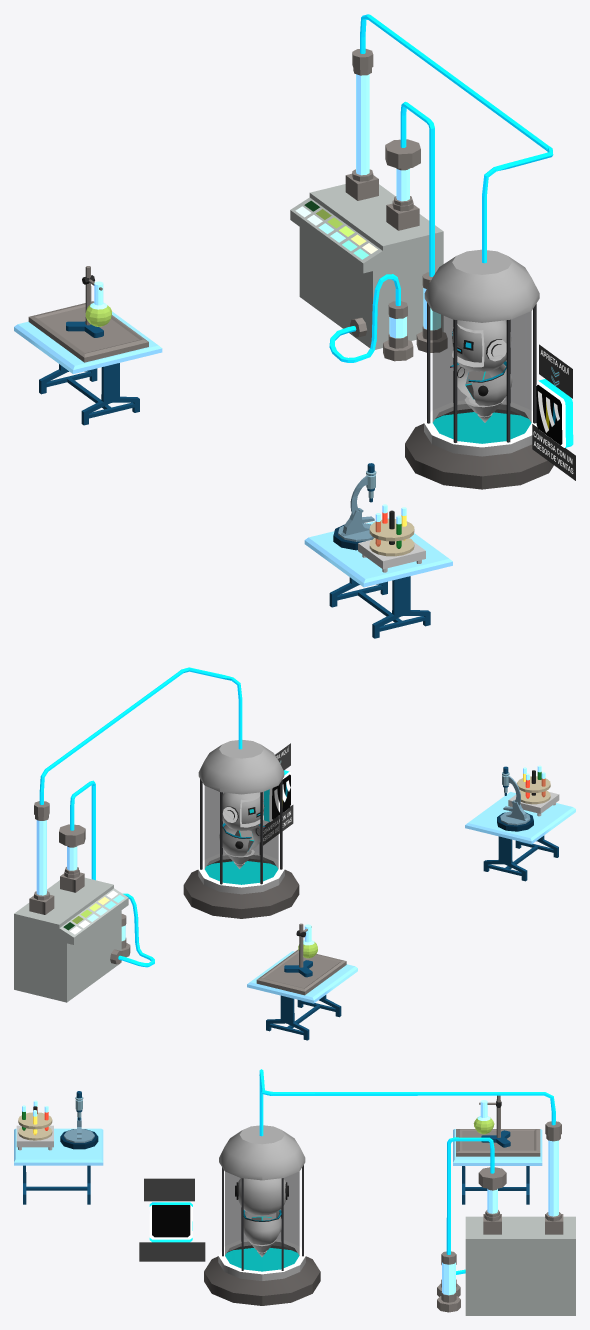
Rendered from P03_XINNUX.glb.
3 renders of one model, top to bottom at view 1: azimuth 30°, elevation 25°; view 2: azimuth 150°, elevation 25°; view 3: azimuth 270°, elevation 25°, orthographic. The views are drawn at different scales.
Parts seen in each view (by area): view 1: xinnux_lab_der_energia.002, xinnux_lab_der_capsula00, xinnux_lab_der_utensillos.002, xinnux_lab_der_utensillos.001, xinnux_lab_der_utensillos.004, xinnux_lab_der_utensillos.003, xinnux_lab_der_capsula01, xinnux_lab_der_robot_head, xinnux_buttons_01.001, xinnux_lab_der_utensillos.005\, xinnux_lab_der_robot_body, xinnux_cartel02.002 (+1 smaller); view 2: xinnux_lab_der_energia.002, xinnux_lab_der_capsula00, xinnux_lab_der_utensillos.002, xinnux_lab_der_utensillos.001, xinnux_lab_der_utensillos.004, xinnux_lab_der_utensillos.003, xinnux_lab_der_robot_head, xinnux_lab_der_capsula01, xinnux_lab_der_utensillos.005\, xinnux_lab_der_robot_body, xinnux_buttons_01.001, xinnux_cartel02.002; view 3: xinnux_lab_der_energia.002, xinnux_lab_der_capsula00, xinnux_lab_der_utensillos.001, xinnux_lab_der_utensillos.002, xinnux_buttons_01.001, xinnux_lab_der_robot_head, xinnux_lab_der_utensillos.004, xinnux_lab_der_utensillos.003, xinnux_cartel02.002, xinnux_cartel02.001, xinnux_lab_der_robot_body, xinnux_lab_der_capsula01 (+1 smaller).
Part boxes in pixels (bbox=[...]): xinnux_lab_der_energia.002: bbox=[290, 14, 553, 362]; xinnux_lab_der_capsula00: bbox=[405, 249, 553, 489]; xinnux_lab_der_utensillos.002: bbox=[304, 518, 452, 638]; xinnux_lab_der_utensillos.001: bbox=[28, 266, 148, 362]; xinnux_lab_der_utensillos.004: bbox=[14, 311, 162, 425]; xinnux_lab_der_utensillos.003: bbox=[358, 504, 425, 572]; xinnux_lab_der_capsula01: bbox=[427, 303, 536, 442]; xinnux_lab_der_robot_head: bbox=[452, 320, 511, 371]; xinnux_buttons_01.001: bbox=[536, 379, 573, 447]; xinnux_lab_der_utensillos.005\: bbox=[333, 463, 376, 550]; xinnux_lab_der_robot_body: bbox=[450, 361, 512, 405]; xinnux_cartel02.002: bbox=[532, 424, 575, 480]; xinnux_lab_der_energia.002: bbox=[14, 667, 242, 1002]; xinnux_lab_der_capsula00: bbox=[183, 740, 299, 918]; xinnux_lab_der_utensillos.002: bbox=[465, 792, 575, 881]; xinnux_lab_der_utensillos.001: bbox=[256, 923, 346, 995]; xinnux_lab_der_utensillos.004: bbox=[247, 951, 357, 1040]; xinnux_lab_der_utensillos.003: bbox=[508, 765, 559, 816]; xinnux_lab_der_robot_head: bbox=[222, 792, 264, 830]; xinnux_lab_der_capsula01: bbox=[200, 779, 282, 884]; xinnux_lab_der_utensillos.005\: bbox=[497, 766, 533, 831]; xinnux_lab_der_robot_body: bbox=[219, 823, 265, 856]; xinnux_buttons_01.001: bbox=[263, 770, 290, 821]; xinnux_cartel02.002: bbox=[263, 805, 293, 845]; xinnux_lab_der_energia.002: bbox=[259, 1069, 575, 1315]; xinnux_lab_der_capsula00: bbox=[204, 1125, 320, 1305]; xinnux_lab_der_utensillos.001: bbox=[456, 1095, 540, 1156]; xinnux_lab_der_utensillos.002: bbox=[14, 1128, 103, 1204]; xinnux_buttons_01.001: bbox=[149, 1202, 192, 1242]; xinnux_lab_der_robot_head: bbox=[238, 1178, 285, 1215]; xinnux_lab_der_utensillos.004: bbox=[453, 1129, 542, 1204]; xinnux_lab_der_utensillos.003: bbox=[16, 1100, 53, 1150]; xinnux_cartel02.002: bbox=[139, 1242, 205, 1261]; xinnux_cartel02.001: bbox=[144, 1178, 194, 1201]; xinnux_lab_der_robot_body: bbox=[243, 1210, 281, 1244]; xinnux_lab_der_capsula01: bbox=[222, 1165, 303, 1270].
Size of what is drawn, in the model's own units: 6.84 by 4.97 by 11.65.
6 materials, 6 textured.
